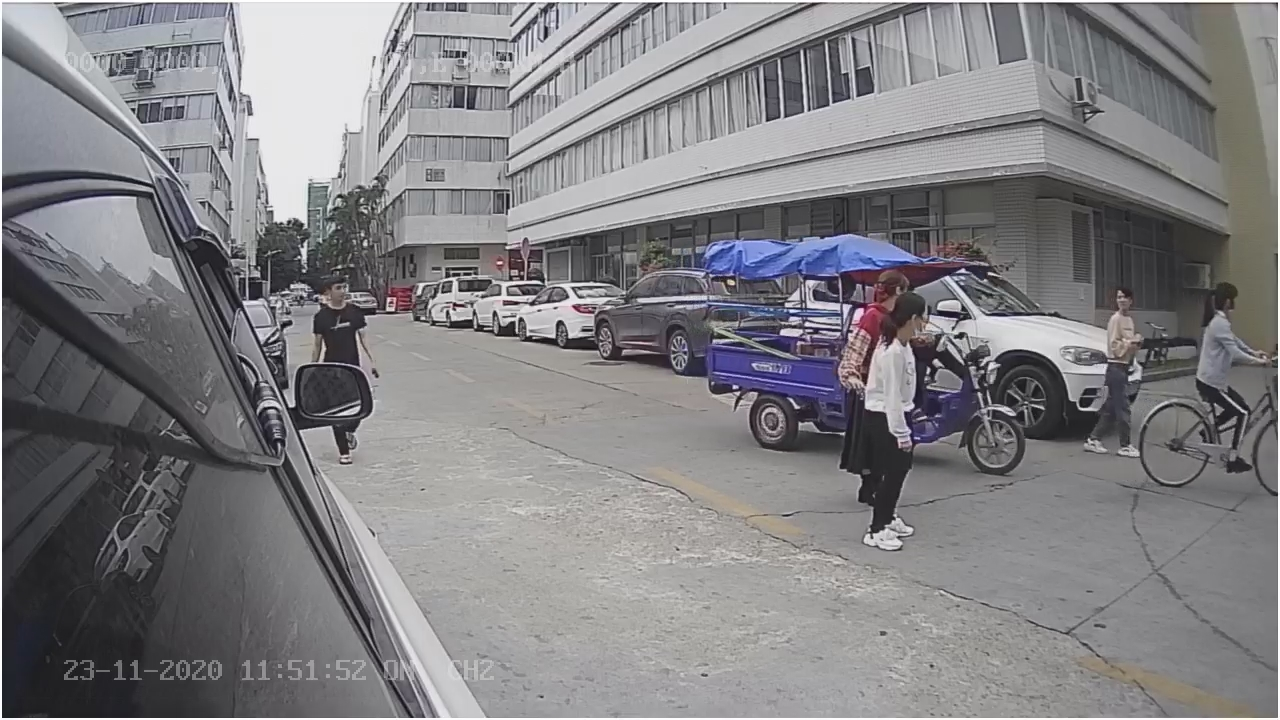person: (850, 287, 936, 549), (1195, 281, 1274, 369)
